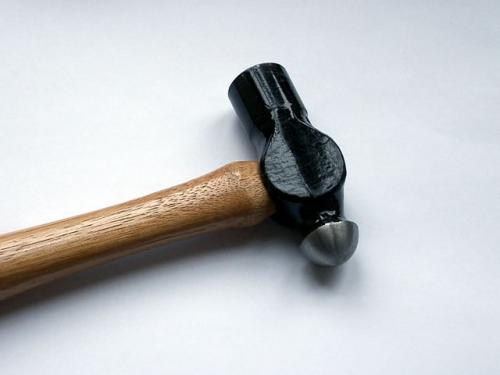hammer: (0, 60, 360, 303)
